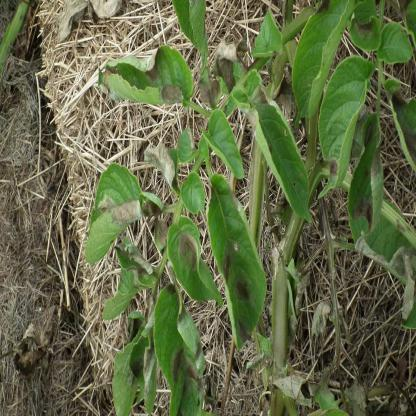Potato leaf late blight: (203, 171, 268, 352), (243, 102, 314, 223), (319, 55, 377, 200), (147, 282, 209, 414), (83, 164, 154, 266), (95, 46, 194, 115), (165, 210, 221, 310), (346, 113, 387, 248)
